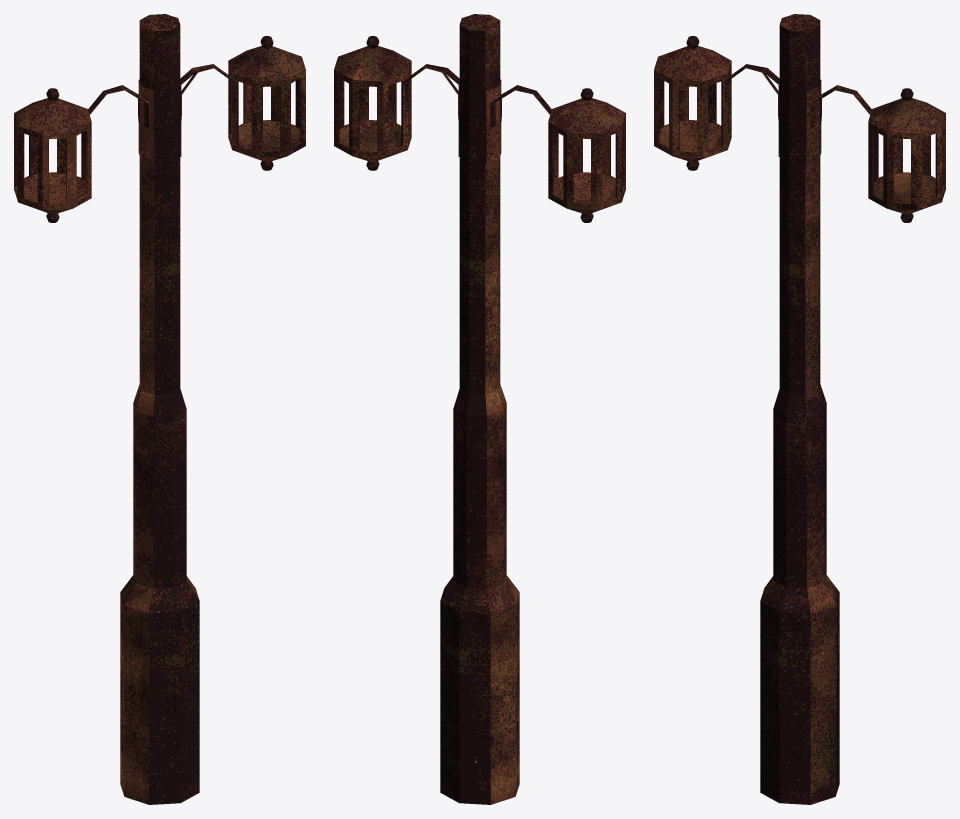
Rendered from SM_StreetLight_01.gltf.
The picture shows the model from 3 angles, left to right: view 1: azimuth 30°, elevation 25°; view 2: azimuth 150°, elevation 25°; view 3: azimuth 330°, elevation 25°; orthographic projection.
Visible parts, largest first — view 1: SM_StreetLight_01; view 2: SM_StreetLight_01; view 3: SM_StreetLight_01.
Part boxes in pixels (x1,y1,x2,y2): SM_StreetLight_01: (14, 14, 305, 804); SM_StreetLight_01: (334, 14, 625, 804); SM_StreetLight_01: (654, 14, 945, 804).
Size of the model in its own units: 1.55 by 4 by 0.39.
Materials: 1 (1 with a texture image).
